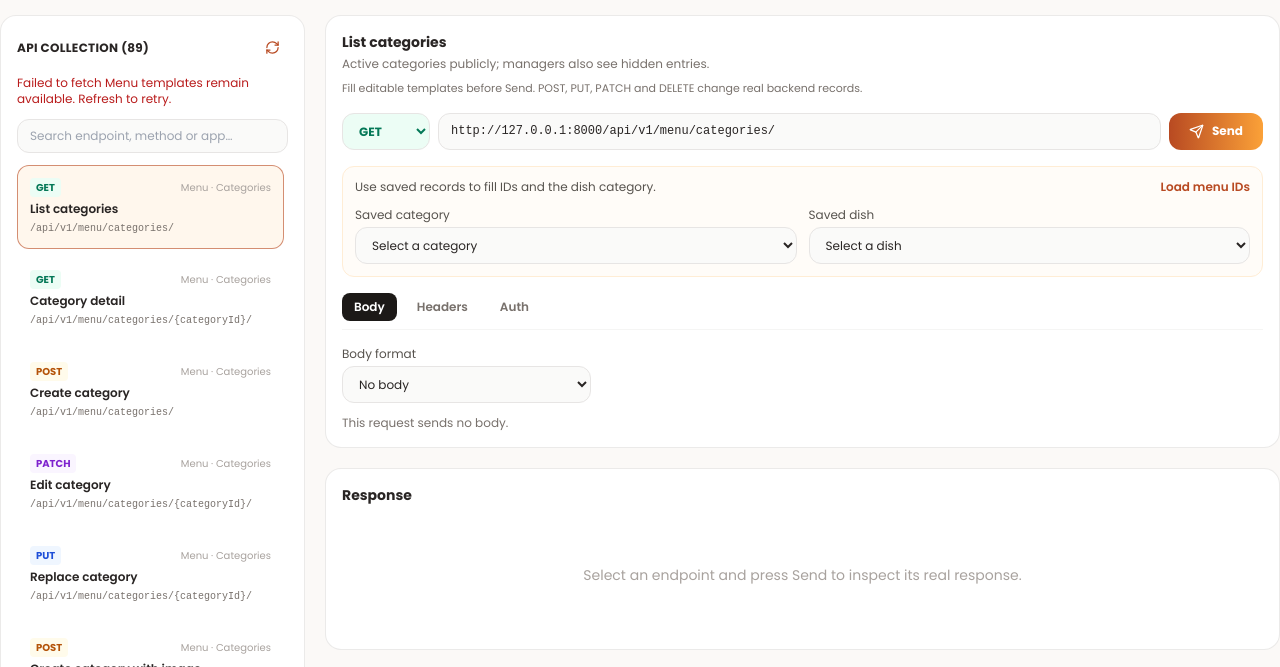
it: admin API tester › reports schema failure and refreshes to discover newly added backend APIs
Check: the message "Failed to fetch Menu templates remain available. Refresh to retry." is shown, box [17,75,288,107]
Click the button named "Refresh API collection": point(272, 48) [257,32,288,63]
(page scrolled)
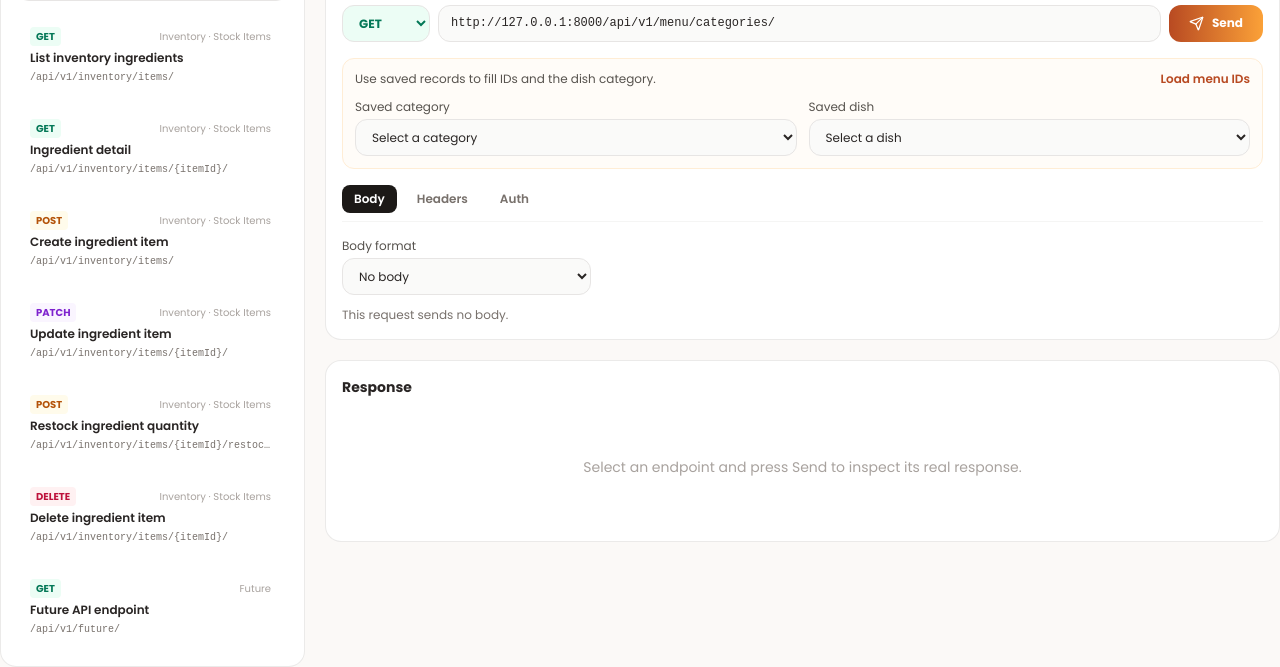
Check: the button "Future API endpoint" is shown, box [17,566,284,650]
Check: the message "Failed to fetch Menu templates remain available. Refresh to retry." is gone
